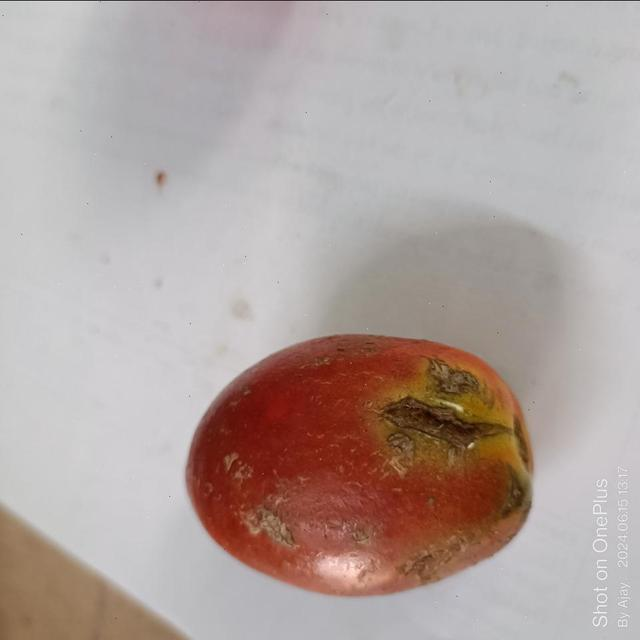Bacterial Spot Fruit: (34, 24, 301, 350)
